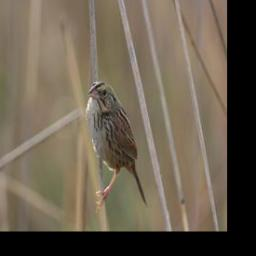Sparrow: (84, 80, 150, 213)
